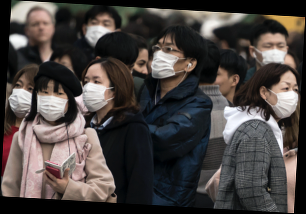with_mask: (35, 86, 71, 123), (80, 74, 112, 113), (8, 78, 37, 121), (272, 81, 300, 121), (150, 41, 179, 79), (84, 17, 116, 48), (260, 40, 288, 68)
without_mask: (27, 18, 55, 43)
